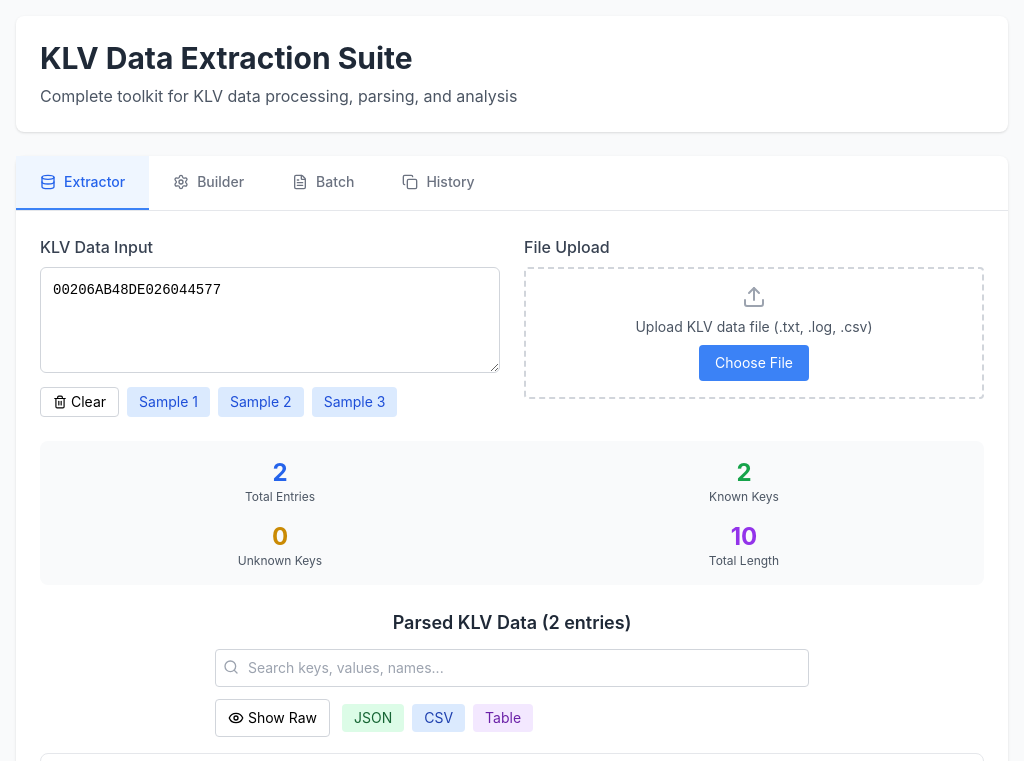
App Integration Tests › Tab Navigation › should maintain tab state during navigation
# Switch to builder
Click the button "Builder" at (209, 183), box [149,156,268,210]
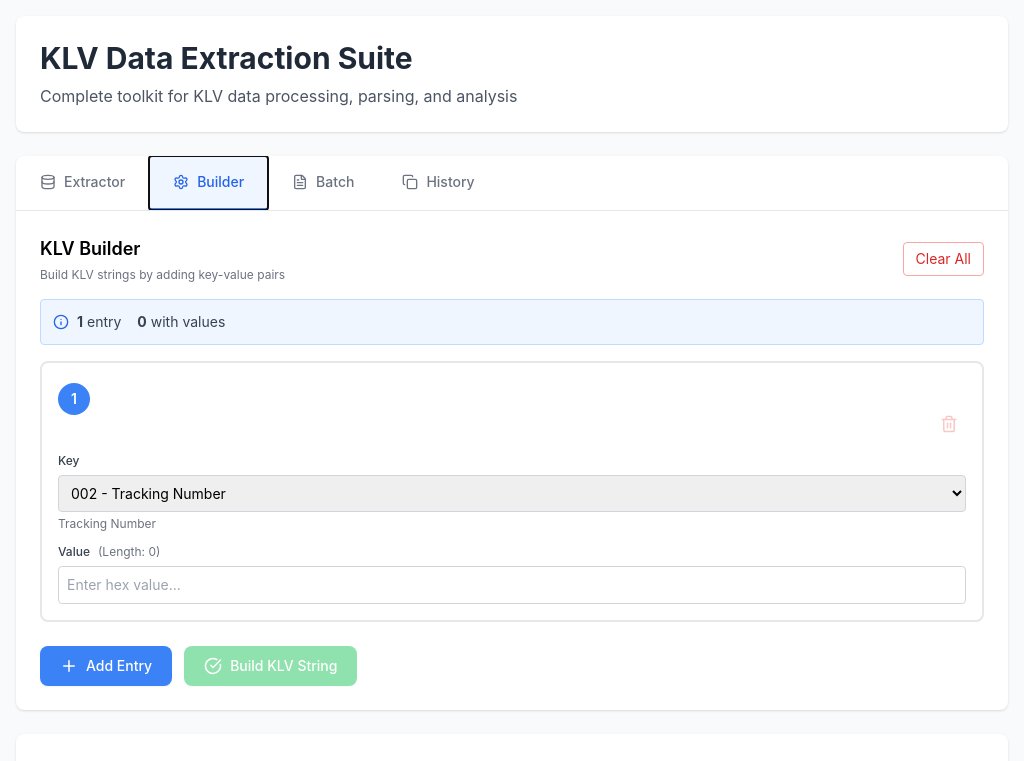
Expected: the heading "KLV Builder" is shown, [40,238,140,259]
# Switch back to extractor
Click the button "Extractor" at (83, 183), box [16,156,149,210]
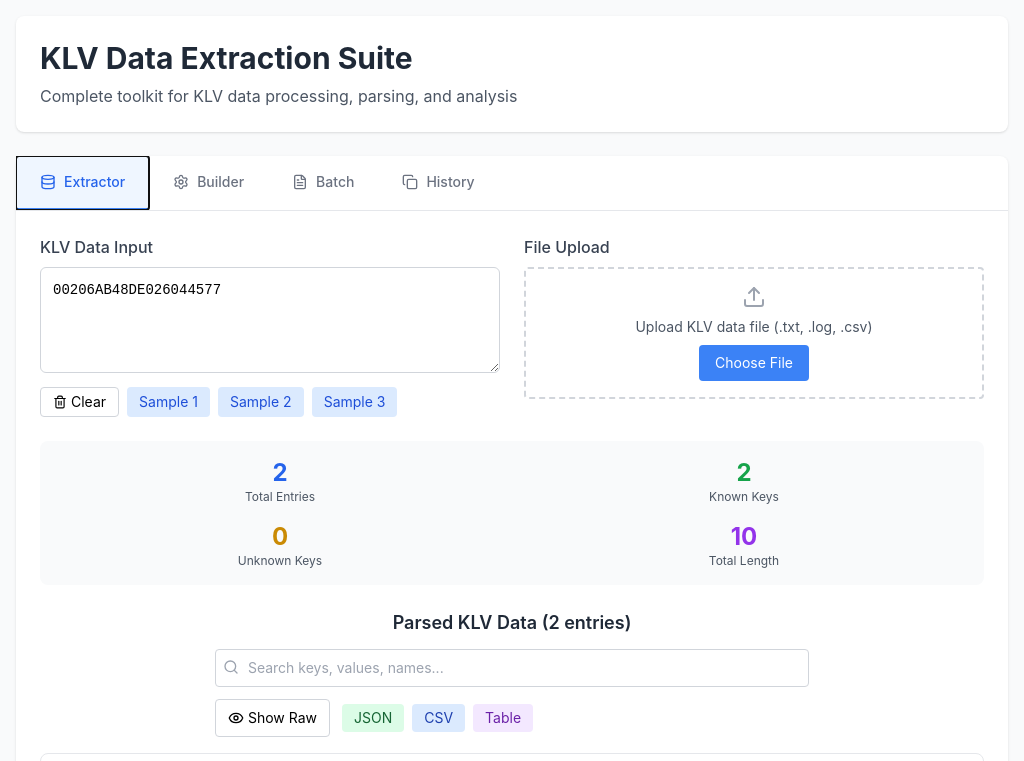
Expected: the text box with placeholder "Enter KLV data (e.g., 00206AB48DE026044577)..." is shown, [40,267,500,373]
